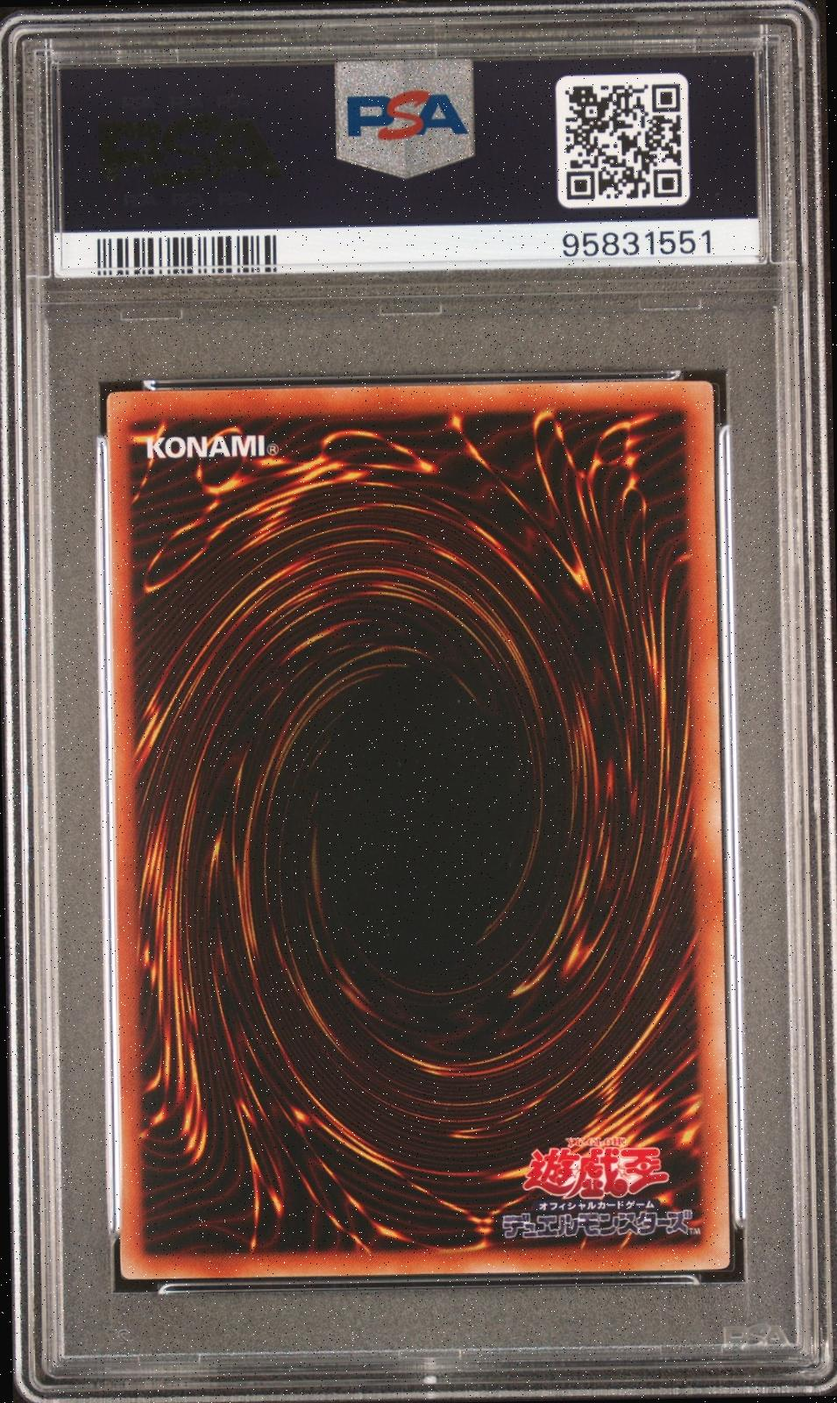card-2UtV: (104, 380, 730, 1281)
